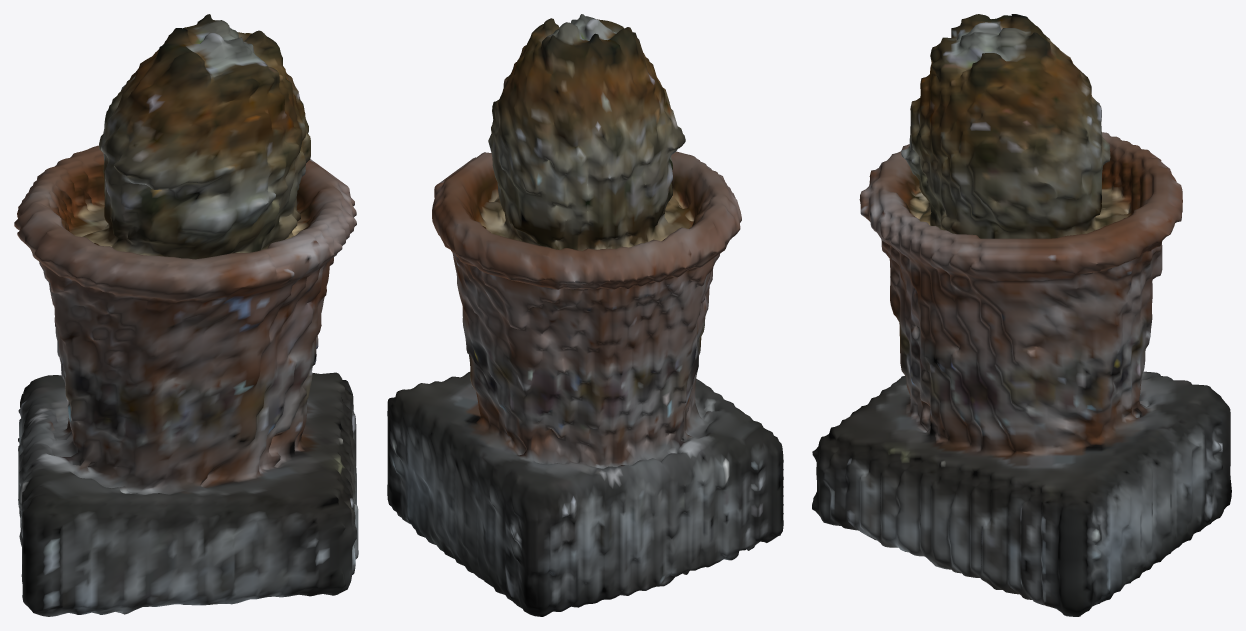
File: runtime-capture.glb
3 views of the same model, side by side, from view 1: azimuth 30°, elevation 25°; view 2: azimuth 150°, elevation 25°; view 3: azimuth 270°, elevation 25° (orthographic). The views are drawn at different scales.
Parts seen in each view (by area): view 1: runtime-capture; view 2: runtime-capture; view 3: runtime-capture.
Part boxes in pixels (x1,y1,x2,y2): runtime-capture: [14, 14, 358, 616]; runtime-capture: [387, 14, 783, 616]; runtime-capture: [812, 14, 1231, 616].
Bounding box in the file's own units: 0.071 × 0.1 × 0.0721.
